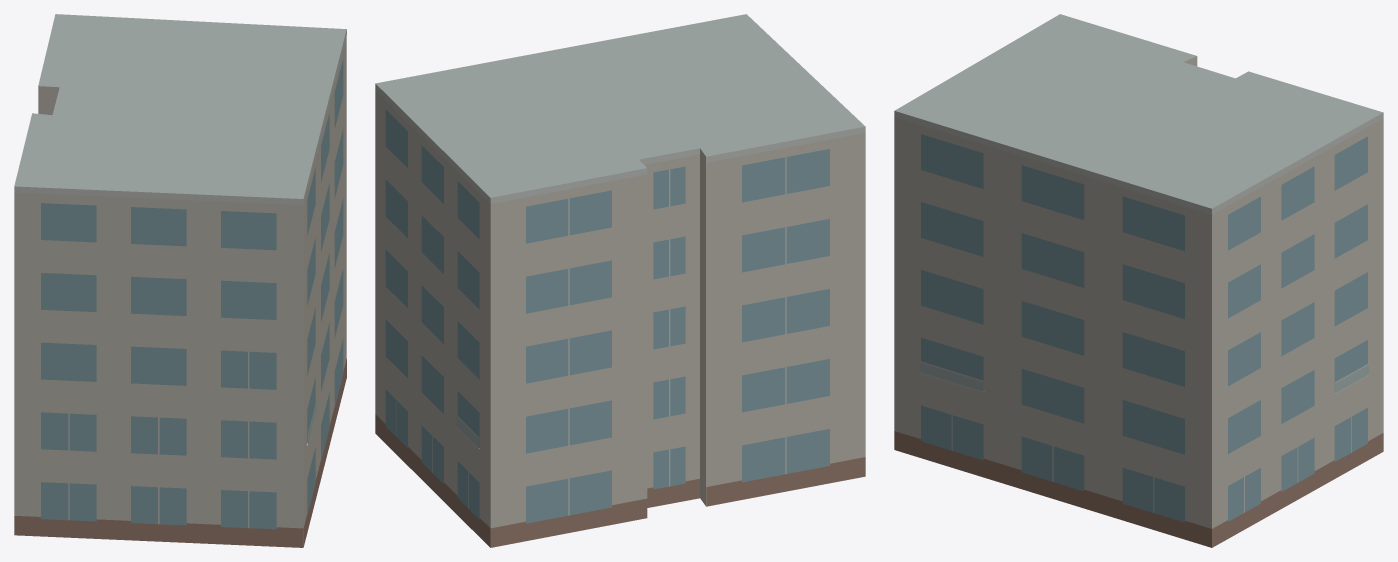
The model's file is survey-upis-32621660.glb.
3 renders of one model, left to right at view 1: azimuth 30°, elevation 25°; view 2: azimuth 150°, elevation 25°; view 3: azimuth 270°, elevation 25°, orthographic. The views are drawn at different scales.
Parts seen in each view (by area): view 1: survey-upis-32621660.tmp; view 2: survey-upis-32621660.tmp; view 3: survey-upis-32621660.tmp.
Boxes of the visible parts, <box> form: survey-upis-32621660.tmp: <box>14,14,346,547</box>; survey-upis-32621660.tmp: <box>375,14,865,547</box>; survey-upis-32621660.tmp: <box>894,14,1383,547</box>.
Bounding box in the file's own units: 17.13 × 13.9 × 18.18.
